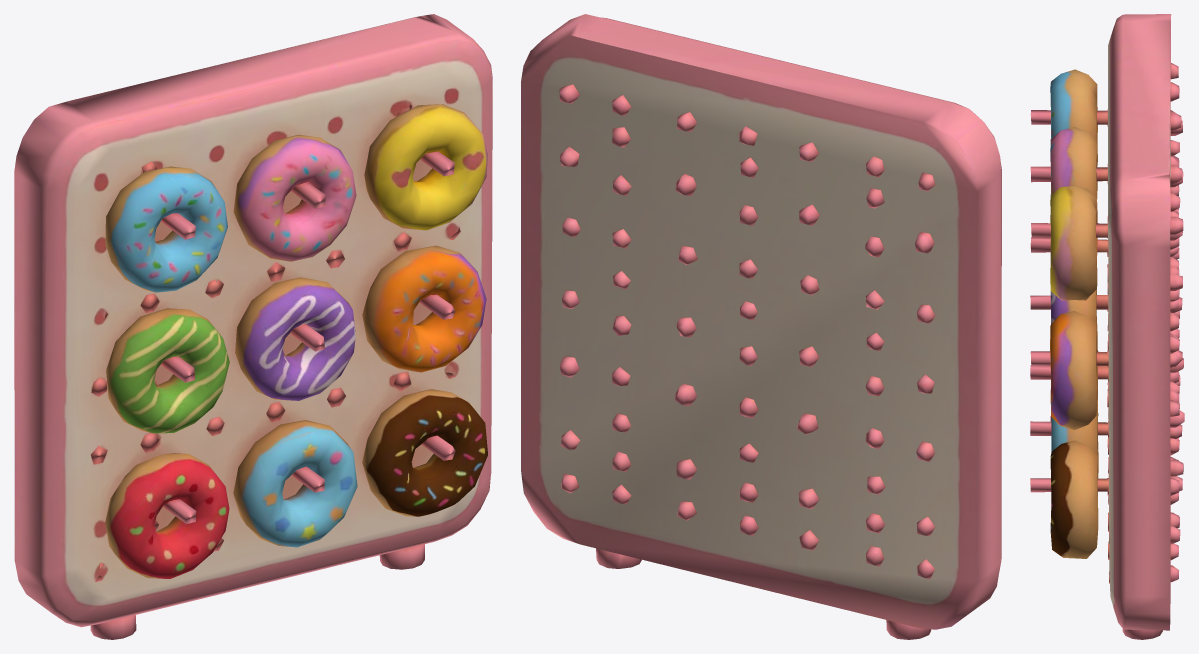
Rendered from dessert-donut-wall.glb.
3 renders of one model, left to right at view 1: azimuth 30°, elevation 25°; view 2: azimuth 150°, elevation 25°; view 3: azimuth 270°, elevation 25°, orthographic. The views are drawn at different scales.
Visible parts, largest first — view 1: geometry_0; view 2: geometry_0; view 3: geometry_0.
Boxes of the visible parts, x1,y1,x2,y2 form: geometry_0: [14, 14, 492, 639]; geometry_0: [521, 14, 1001, 639]; geometry_0: [1030, 14, 1184, 639].
Bounding box in the file's own units: 0.9056 × 1 × 0.2978.
1 material, 1 textured.
